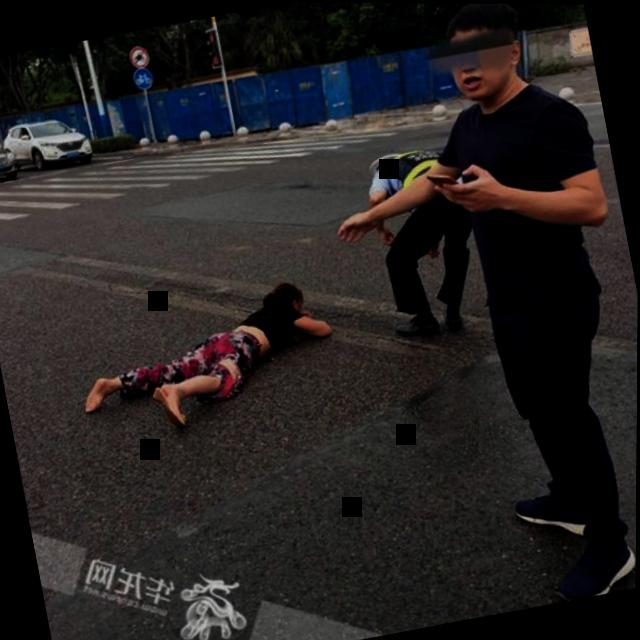Fall-Detected: (56, 256, 359, 451)
